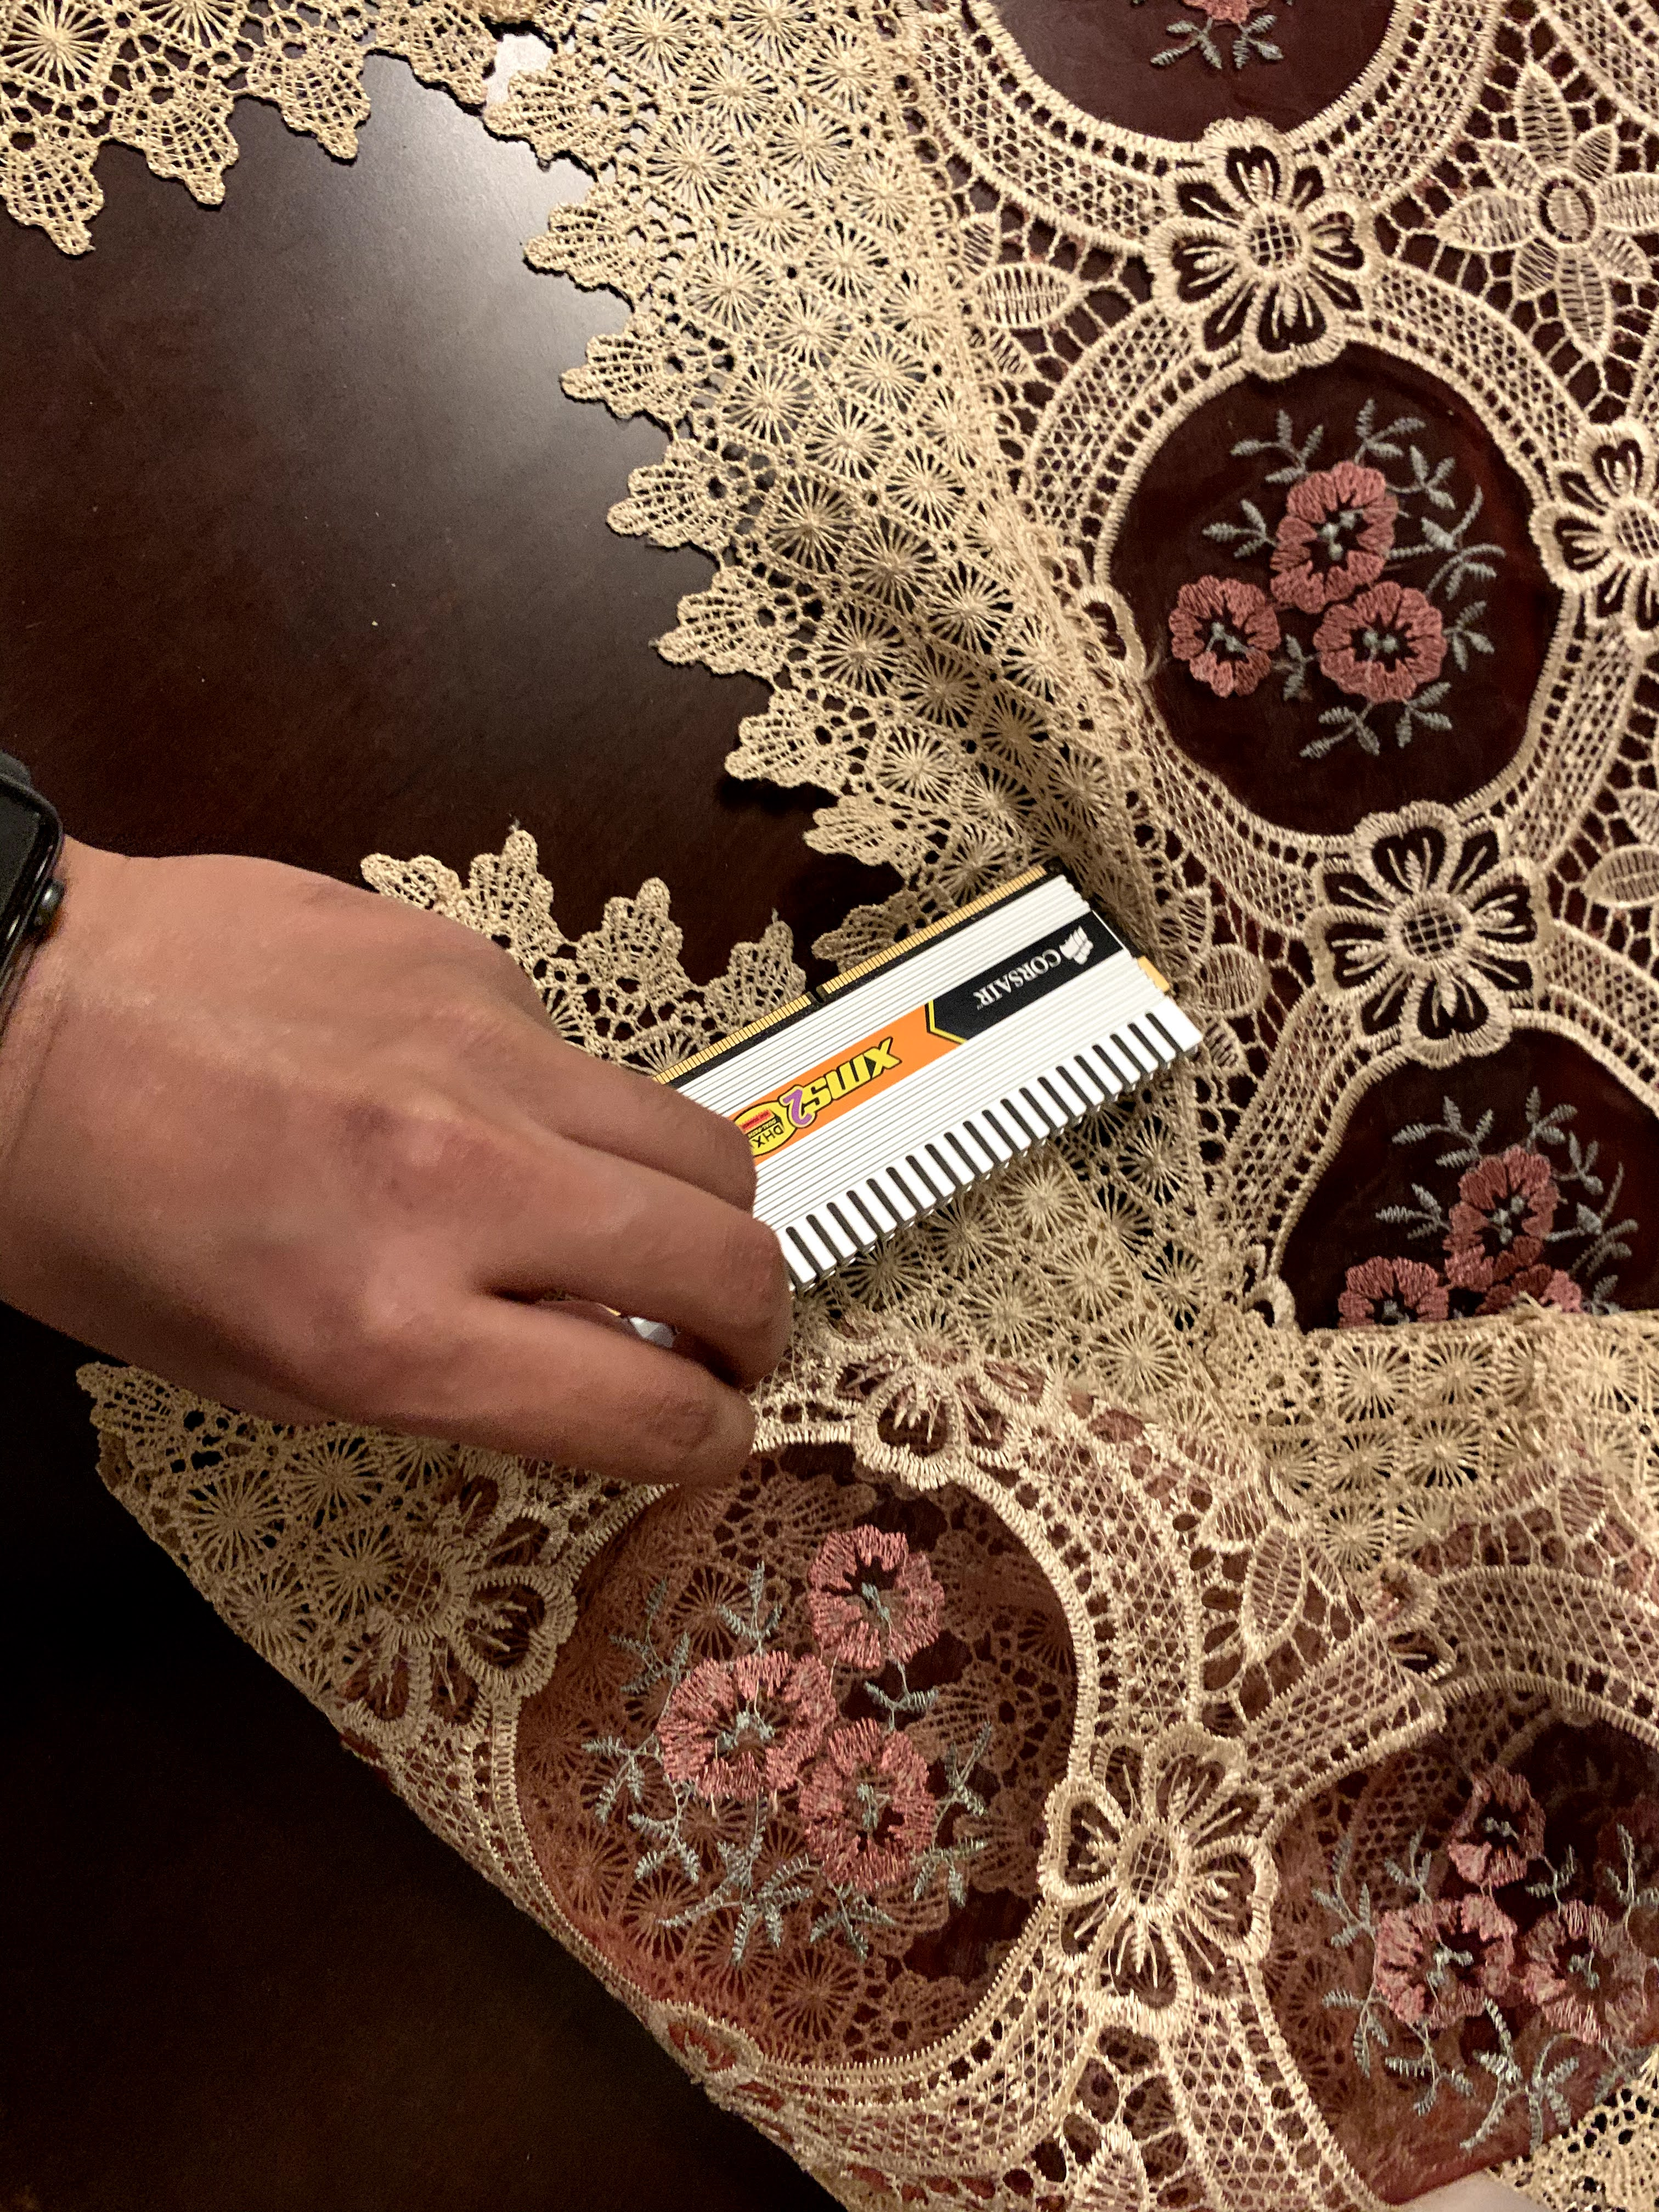Space-debris-medium: (629, 824, 1255, 1338)
